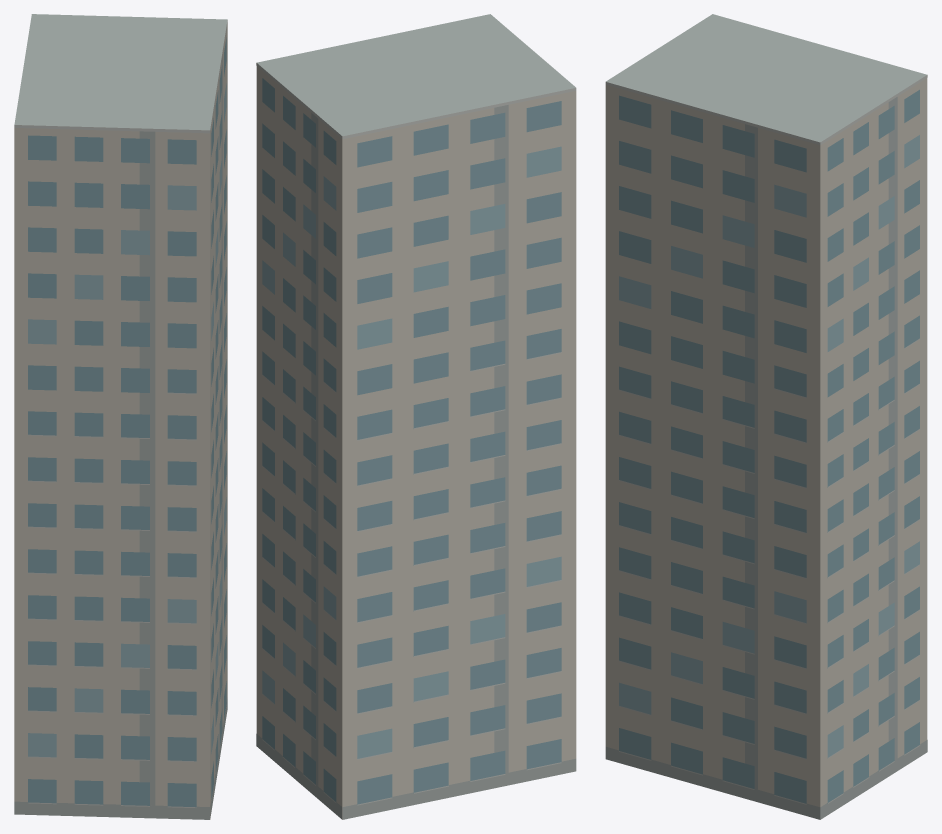
File: residential-4a171e31-e5e0-48ce-b716-fb6e4262ea39.glb
3 renders of one model, left to right at view 1: azimuth 30°, elevation 25°; view 2: azimuth 150°, elevation 25°; view 3: azimuth 270°, elevation 25°, orthographic.
Visible parts, largest first — view 1: residential-4a171e31-e5e0-48ce-b716-fb6e4262ea39.tmp; view 2: residential-4a171e31-e5e0-48ce-b716-fb6e4262ea39.tmp; view 3: residential-4a171e31-e5e0-48ce-b716-fb6e4262ea39.tmp.
Boxes of the visible parts, left/top/right/bottom form: residential-4a171e31-e5e0-48ce-b716-fb6e4262ea39.tmp: left=14, top=14, right=227, bottom=819; residential-4a171e31-e5e0-48ce-b716-fb6e4262ea39.tmp: left=256, top=14, right=576, bottom=819; residential-4a171e31-e5e0-48ce-b716-fb6e4262ea39.tmp: left=605, top=14, right=927, bottom=819.
Size of the model in its own units: 23.19 by 57 by 24.56.
